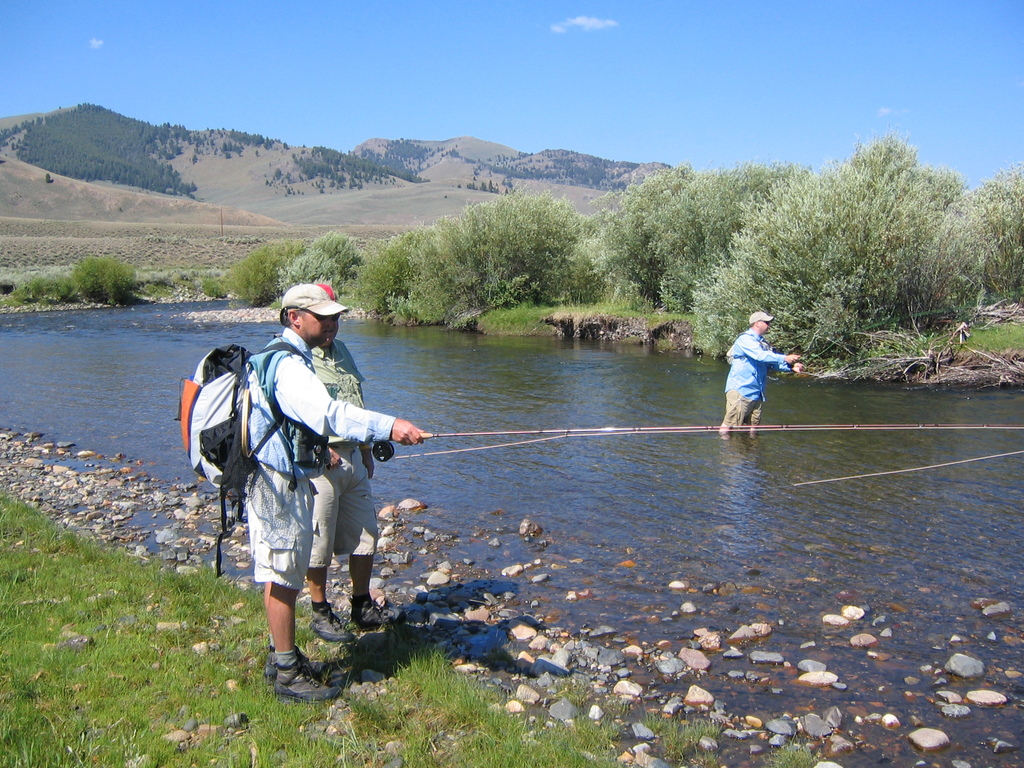Person: (235, 283, 425, 703), (306, 286, 413, 637), (719, 312, 804, 432)
